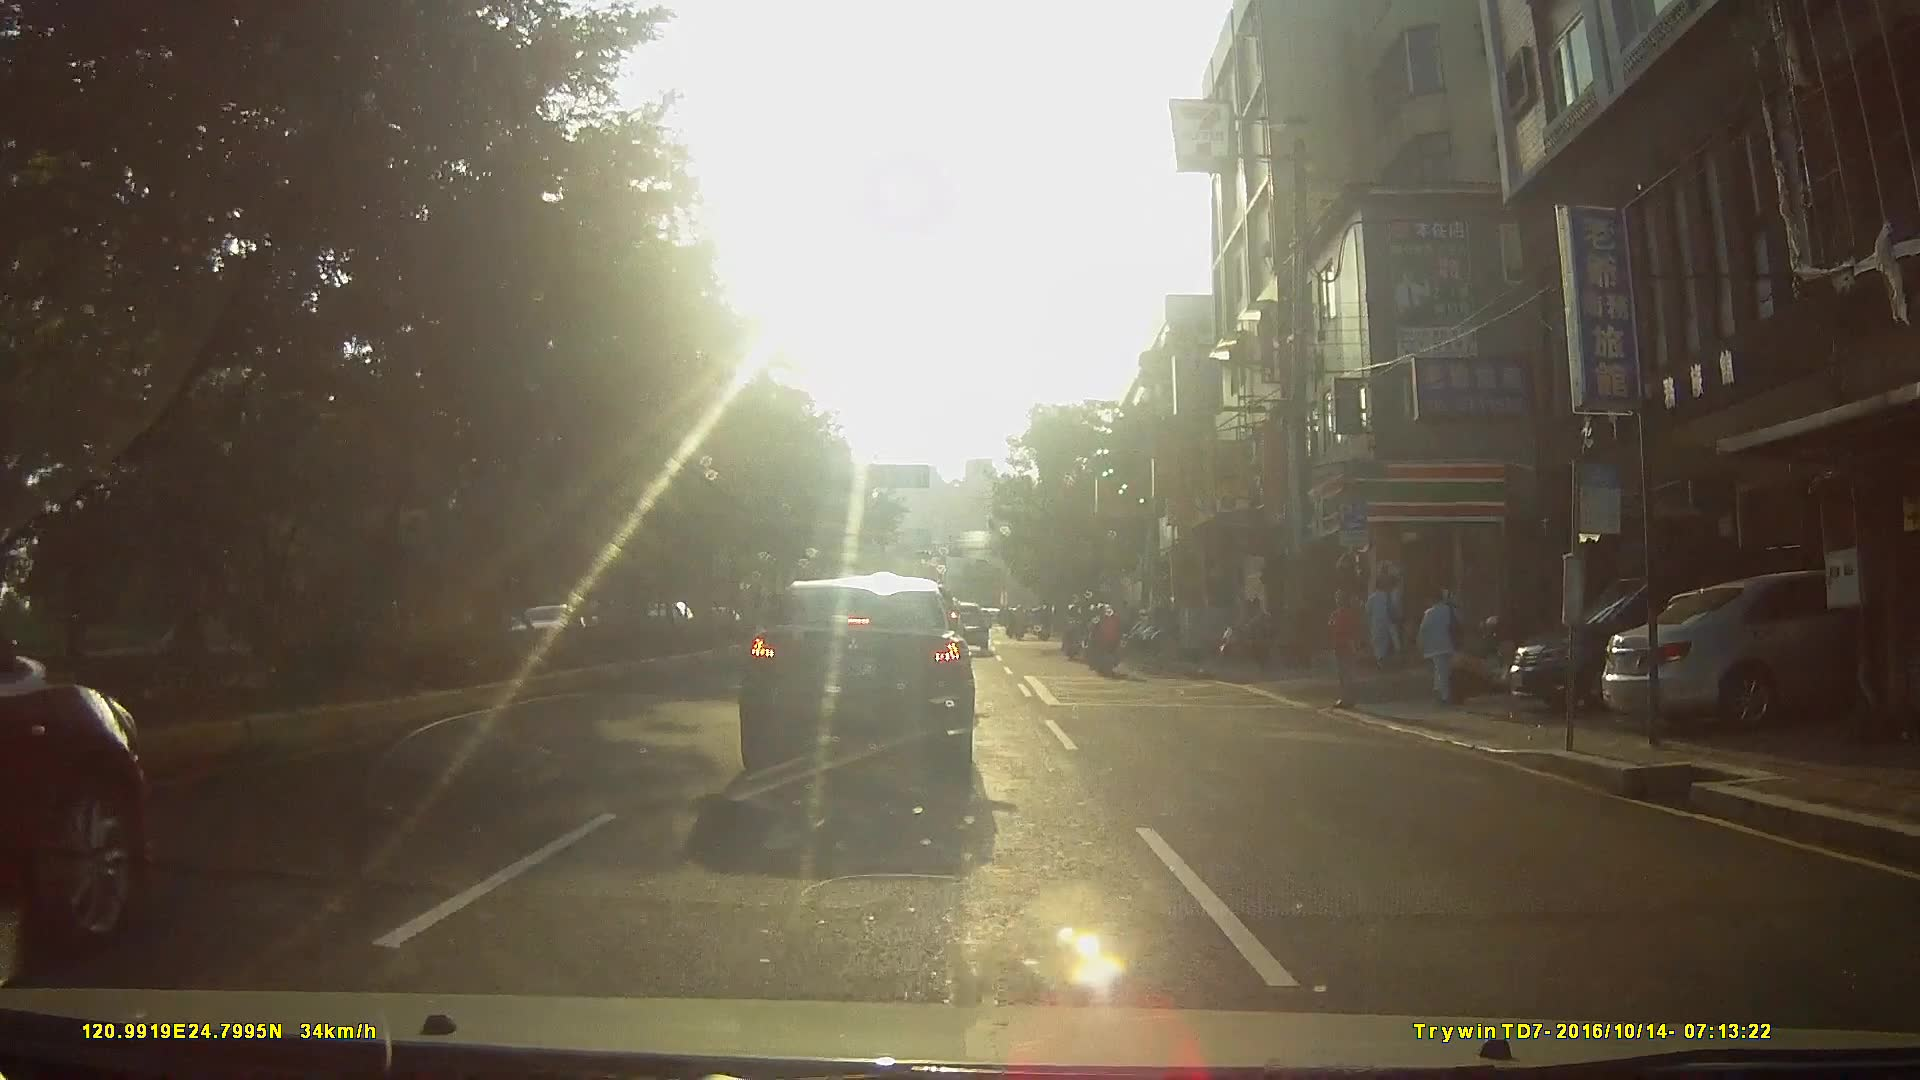pedestrian: (1414, 584, 1468, 709), (1332, 588, 1366, 715)
rider: (1086, 600, 1125, 678), (1061, 601, 1086, 658)
vehicle: (1501, 545, 1899, 714), (729, 574, 978, 793), (1593, 568, 1918, 736)
